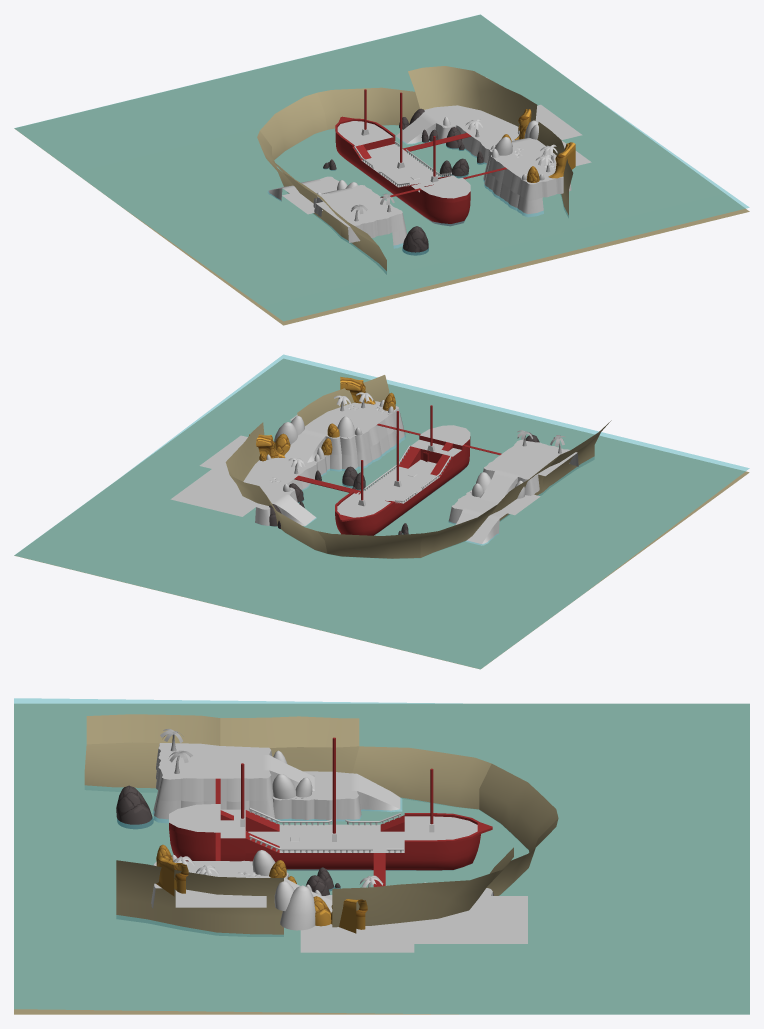
The model's file is boat_arena.fbx.
3 renders of one model, top to bottom at view 1: azimuth 30°, elevation 25°; view 2: azimuth 150°, elevation 25°; view 3: azimuth 270°, elevation 25°, orthographic. The views are drawn at different scales.
Visible parts, largest first — view 1: ground, water, polySurface30, pCube71, pCube100, polySurface33, polySurface19, pCube95, polySurface18, pCube85, terra_floor1, polySurface44 (+6 smaller); view 2: water, ground, pCube97, polySurface33, pCube100, polySurface18, polySurface30, pCube95, polySurface41, pCube101, terra_floor1, pCube85 (+6 smaller); view 3: water, ground, polySurface41, pCube101, polySurface33, polySurface30, pCube97, pCube142, pCube100, pCube141, polySurface18, pCube111 (+23 smaller).
Boxes of the visible parts, x1,y1,x2,y2 form: ground: (14,14,749,325); water: (14,14,749,321); polySurface30: (408,66,537,126); pCube71: (317,87,419,129); pCube100: (260,93,327,159); polySurface33: (352,143,440,209); polySurface19: (410,175,470,226); pCube95: (478,104,582,142); polySurface18: (335,121,395,166); pCube85: (506,140,591,174); terra_floor1: (316,193,383,221); polySurface44: (420,178,470,202); water: (14,354,749,669); ground: (14,358,749,669); pCube97: (170,469,283,516); polySurface33: (359,459,452,522); pCube100: (318,531,423,558); polySurface18: (335,493,394,535); polySurface30: (225,422,271,505); pCube95: (199,435,293,483); polySurface41: (297,375,389,425); pCube101: (420,504,497,557); terra_floor1: (502,447,569,476); pCube85: (290,403,379,429); water: (14,698,749,1014); ground: (14,703,749,1014); polySurface41: (116,860,283,936); pCube101: (352,746,491,809); polySurface33: (245,824,404,870); polySurface30: (332,847,513,927); pCube97: (414,896,527,943); pCube142: (220,716,359,747); pCube100: (479,764,558,851); pCube141: (86,714,220,745); polySurface18: (404,816,480,870); pCube111: (84,742,159,792).
Size of the model in its own units: 1580 by 292 by 1580.
